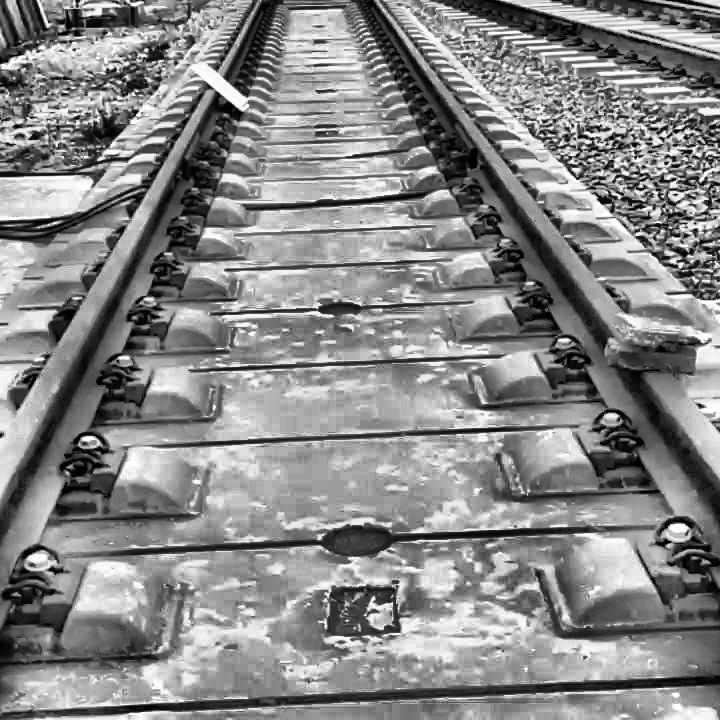Trash: (189, 53, 260, 122)
